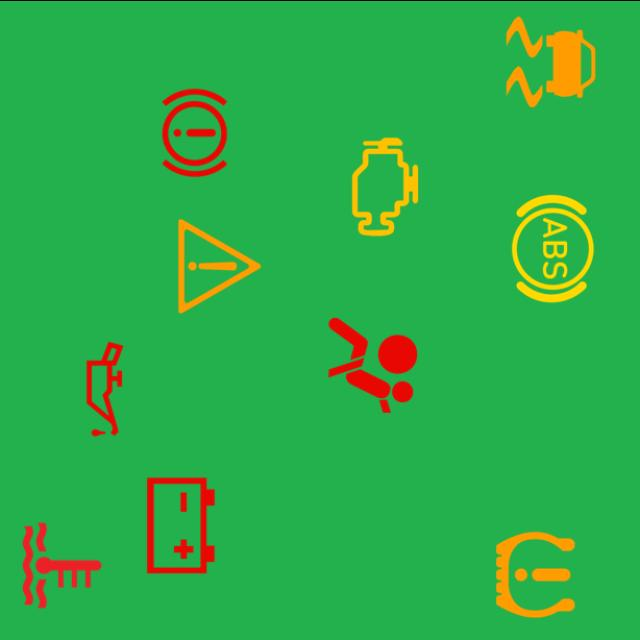Anti Lock Braking System: (494, 188, 612, 306)
Braking System Issue: (136, 73, 254, 191)
Charging System Issue: (122, 466, 240, 584)
Check Engine: (326, 127, 444, 245)
Electronic Stability Problem -ESP-: (492, 2, 610, 120)
Engine Overheating Warning Light: (3, 506, 121, 624)
Low Engine Oil Warning Light: (46, 330, 164, 448)
Low Tire Pressure Warning Light: (476, 515, 594, 633)
Master warning light: (160, 206, 278, 324)
SRS-Airbag: (314, 306, 432, 424)
